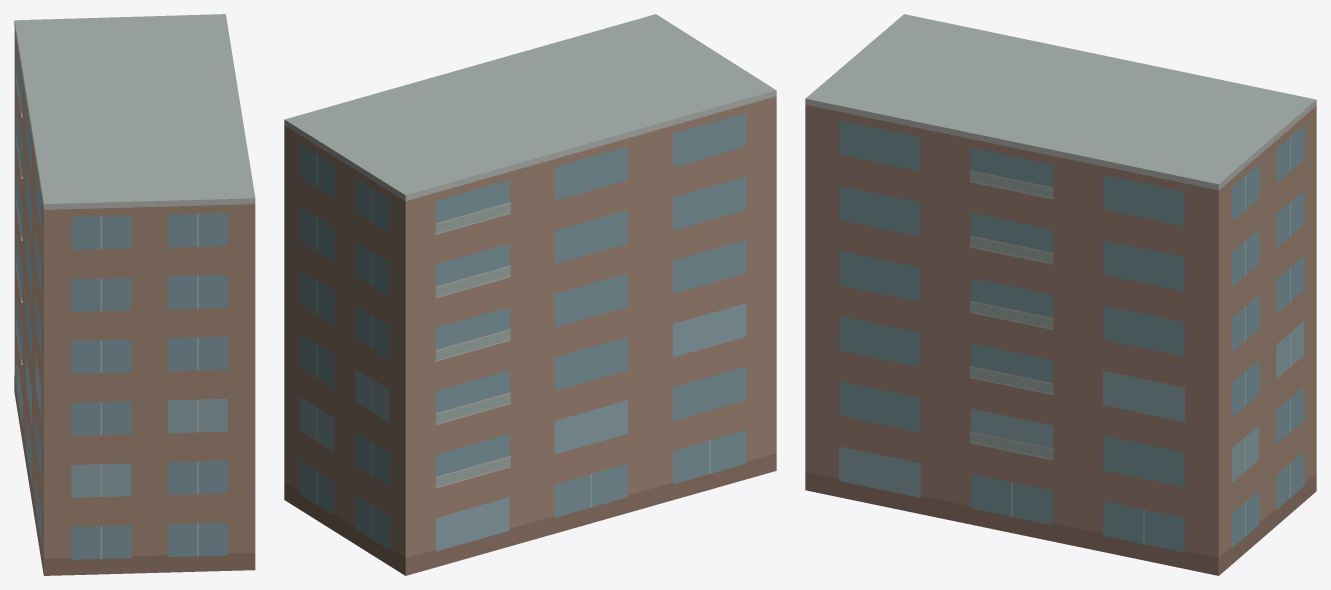
Rendered from survey-upis-32894315.glb.
3 renders of one model, left to right at view 1: azimuth 30°, elevation 25°; view 2: azimuth 150°, elevation 25°; view 3: azimuth 270°, elevation 25°, orthographic. The views are drawn at different scales.
Parts seen in each view (by area): view 1: survey-upis-32894315.tmp; view 2: survey-upis-32894315.tmp; view 3: survey-upis-32894315.tmp.
Boxes of the visible parts, x1,y1,x2,y2 form: survey-upis-32894315.tmp: (14, 14, 255, 575); survey-upis-32894315.tmp: (284, 14, 776, 575); survey-upis-32894315.tmp: (805, 14, 1316, 575).
Bounding box in the file's own units: 14.75 × 15.8 × 18.71.
